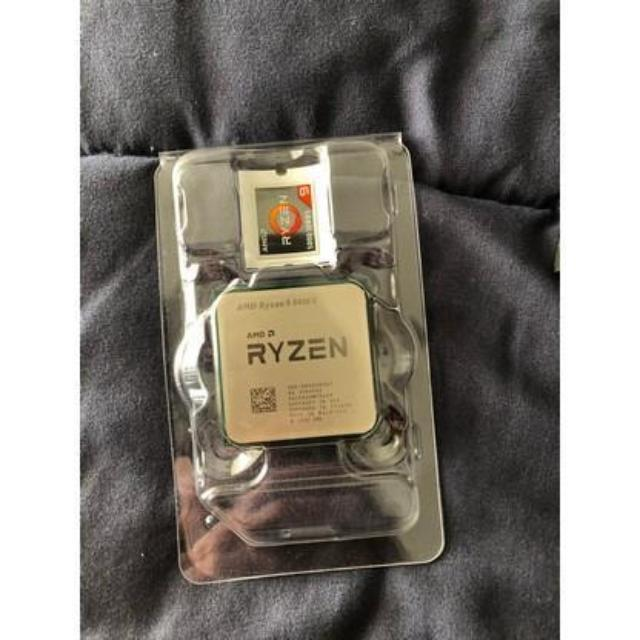CPU: (215, 287, 383, 442)
